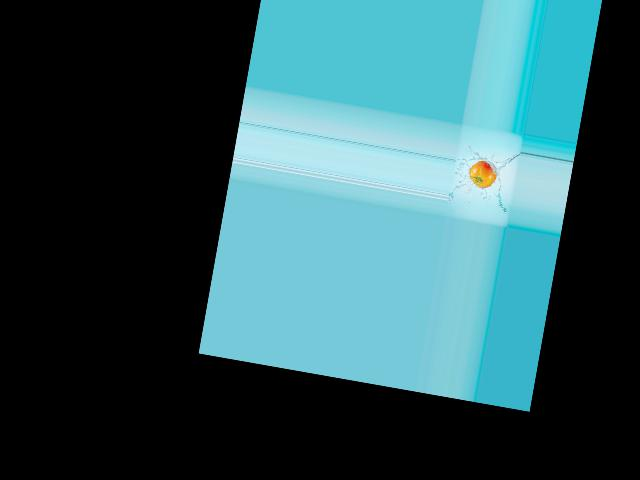tomato: (466, 158, 498, 189)
